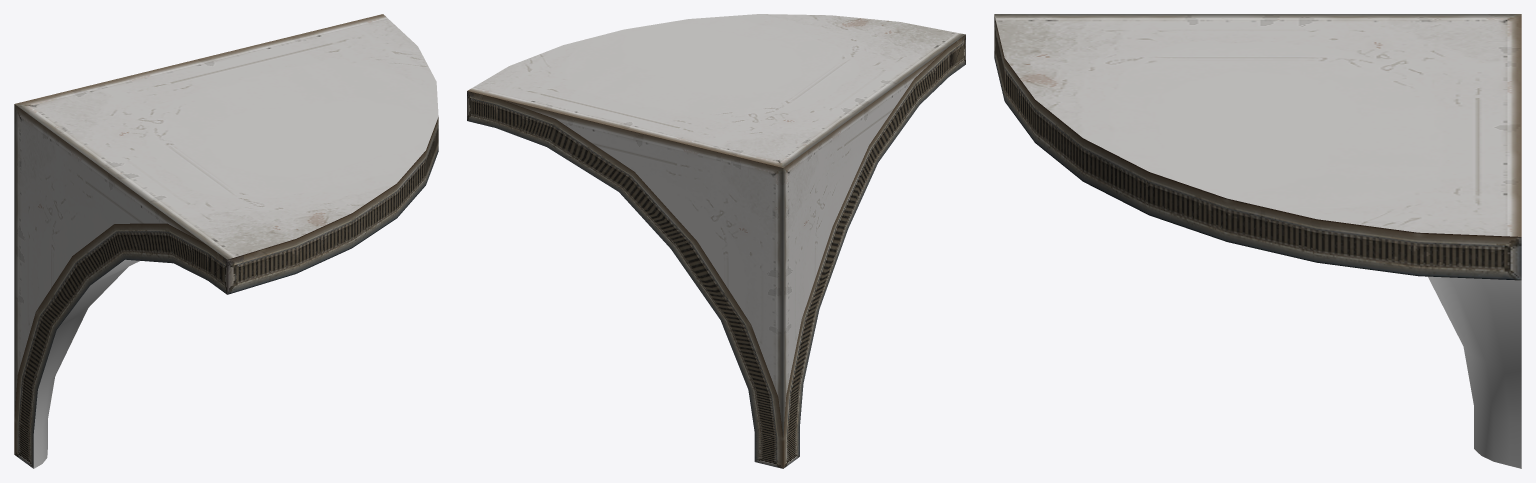
File: scifi_wall_top2_curve4_2.FBX
3 views of the same model, side by side, from view 1: azimuth 30°, elevation 25°; view 2: azimuth 150°, elevation 25°; view 3: azimuth 270°, elevation 25° (orthographic). The views are drawn at different scales.
Visible parts, largest first — view 1: Plane349; view 2: Plane349; view 3: Plane349.
Boxes of the visible parts, x1=… form: Plane349: x1=14, y1=14, x2=438, y2=468; Plane349: x1=467, y1=14, x2=965, y2=468; Plane349: x1=994, y1=14, x2=1521, y2=468.
Size of the model in its own units: 279 by 254 by 279.
